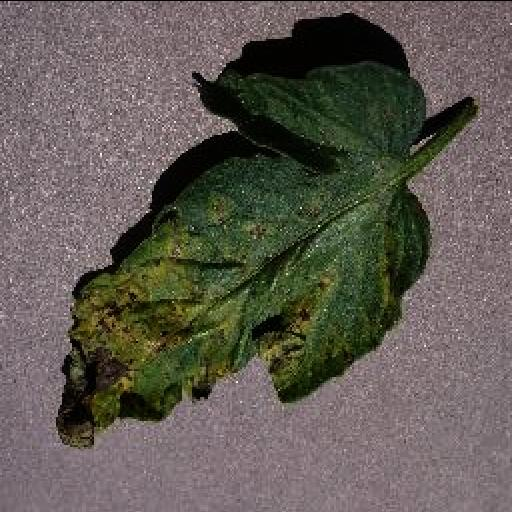disease_tomato: (46, 55, 430, 453)
